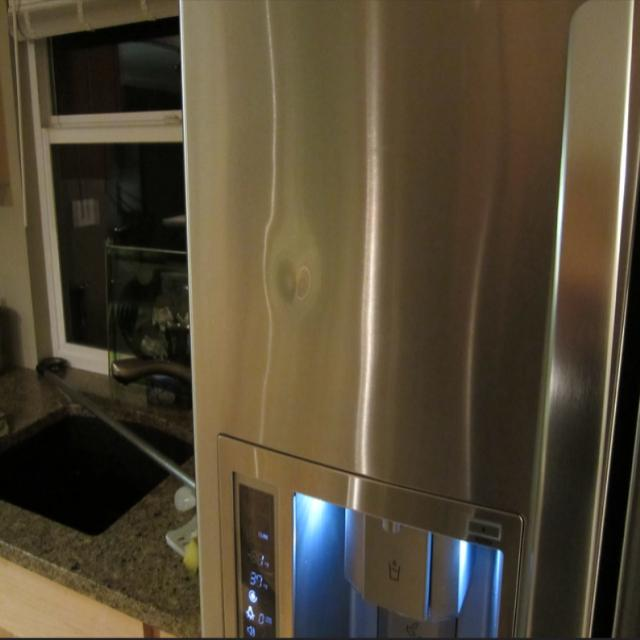dents: (260, 224, 318, 322)
